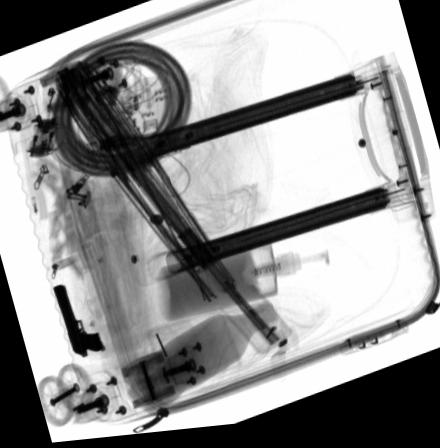Gun: (52, 284, 105, 358)
